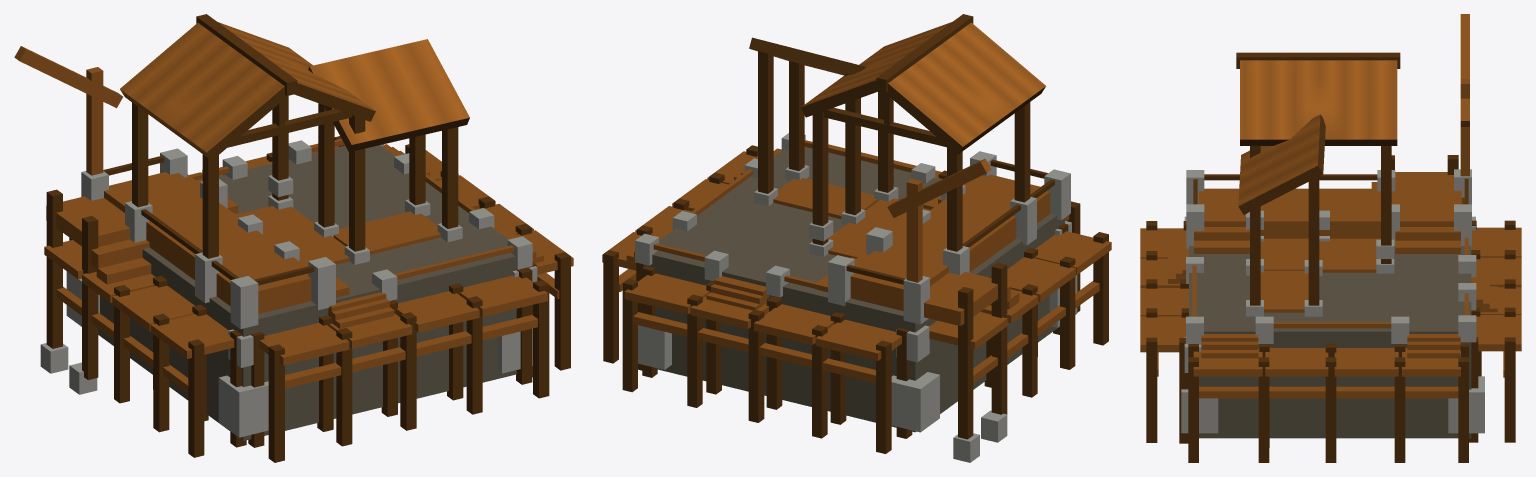
Rendered from docks.fbx.
3 renders of one model, left to right at view 1: azimuth 30°, elevation 25°; view 2: azimuth 150°, elevation 25°; view 3: azimuth 270°, elevation 25°, orthographic. The views are drawn at different scales.
Visible parts, largest first — view 1: polySurface626; view 2: polySurface626; view 3: polySurface626.
Part boxes in pixels (bbox=[...]): polySurface626: bbox=[14, 14, 573, 462]; polySurface626: bbox=[602, 14, 1111, 462]; polySurface626: bbox=[1140, 14, 1521, 462].
Size of the model in its own units: 300 by 244 by 270.
Materials: 1 (1 with a texture image).
